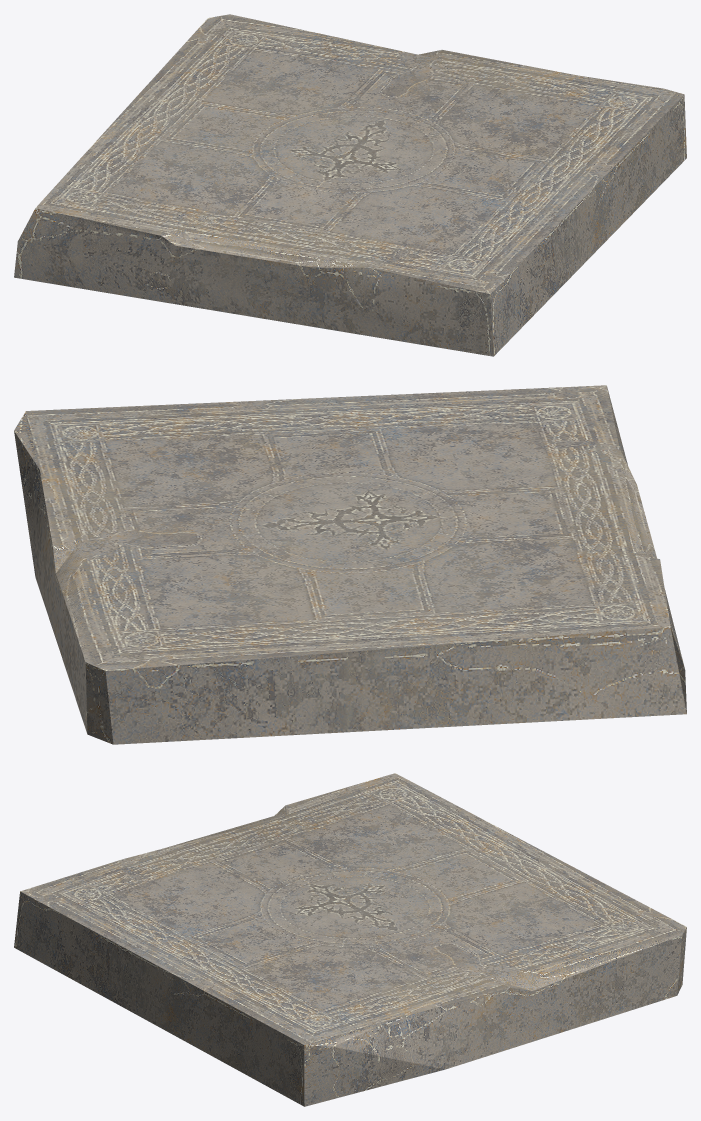
3 renders of one model, top to bottom at view 1: azimuth 30°, elevation 25°; view 2: azimuth 150°, elevation 25°; view 3: azimuth 270°, elevation 25°, orthographic. The views are drawn at different scales.
Visible parts, largest first — view 1: logotile002_high__3_; view 2: logotile002_high__3_; view 3: logotile002_high__3_.
Part boxes in pixels (x1,y1,x2,y2): logotile002_high__3_: (14, 14, 686, 356); logotile002_high__3_: (14, 385, 686, 744); logotile002_high__3_: (14, 773, 686, 1106).
Bounding box in the file's own units: 767 × 83.4 × 769.
